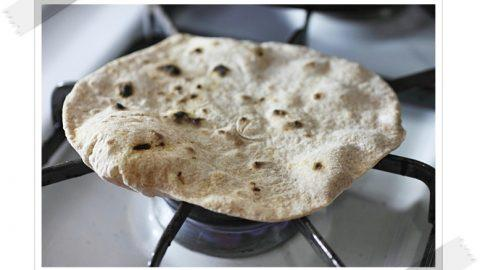chapati: (63, 34, 404, 222)
